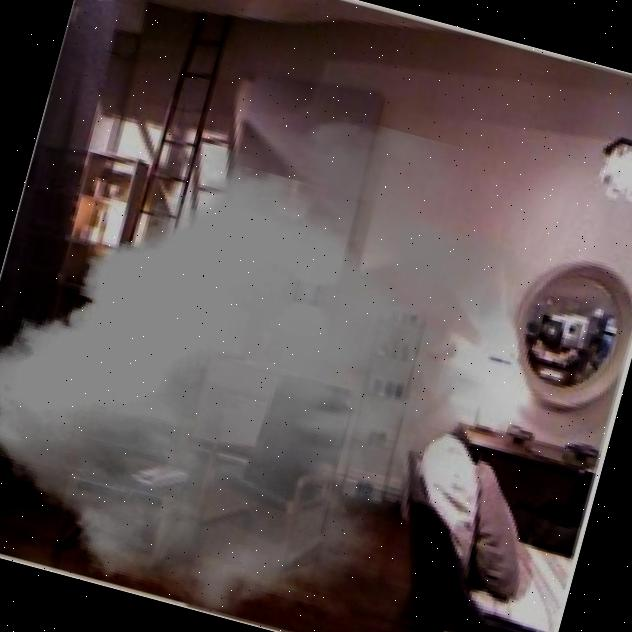smoke: (0, 42, 580, 632)
